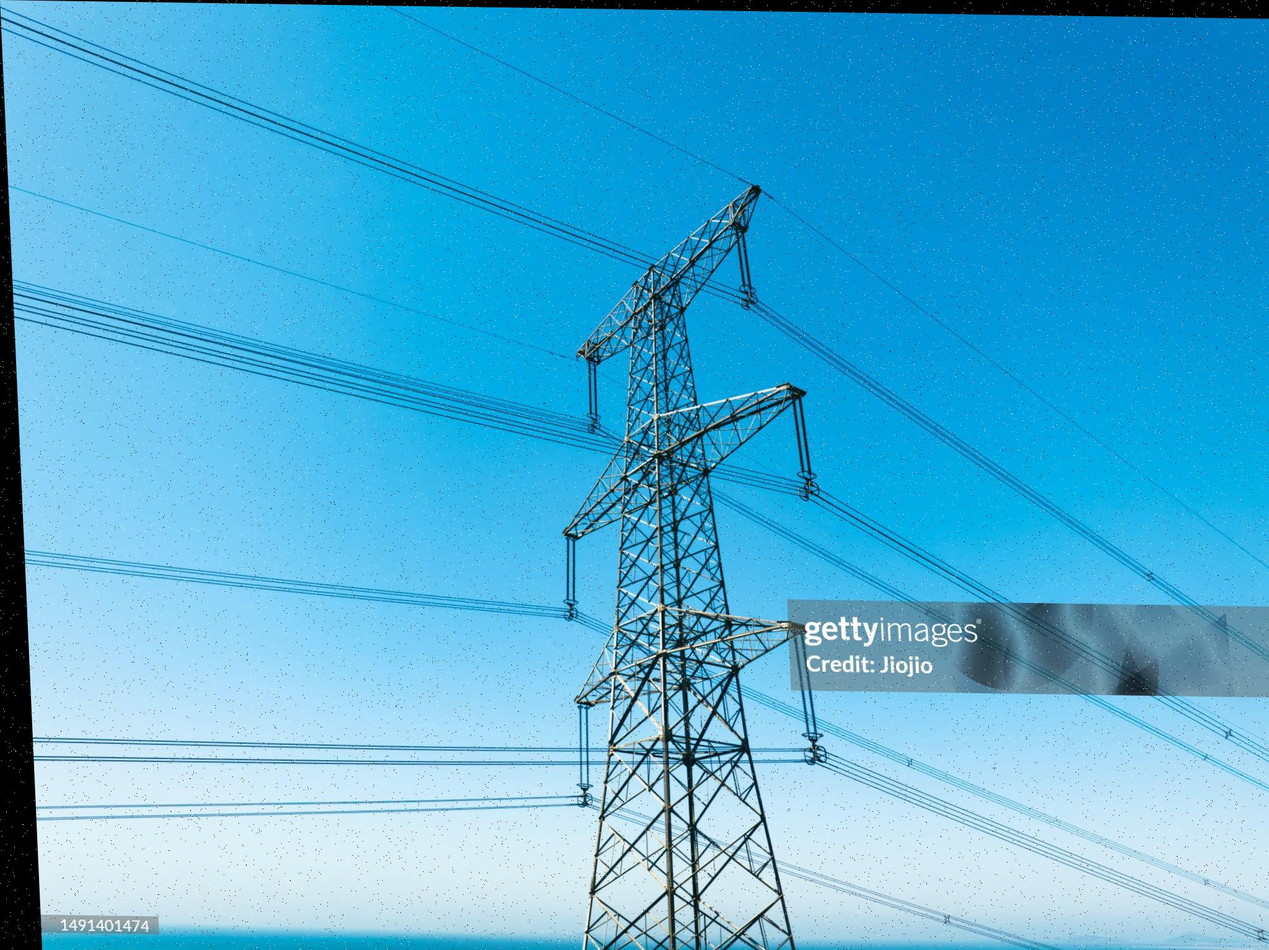tower: (497, 171, 845, 950)
